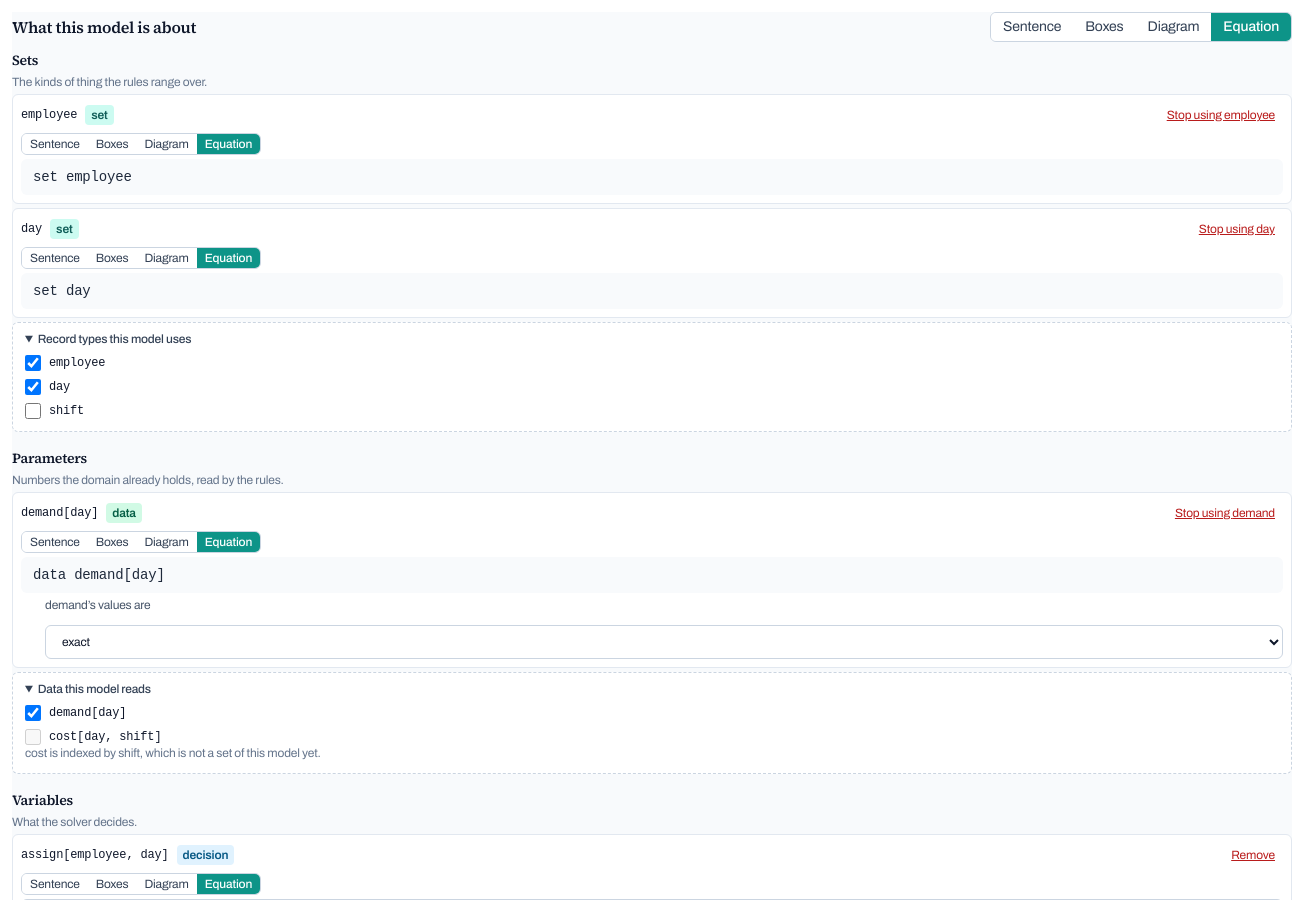
Test case: DeclarationsEditor › refuses to remove a set the rules still range over, naming them
Click the checkbox labelled "day" at (33, 387), box [25,379,41,395]
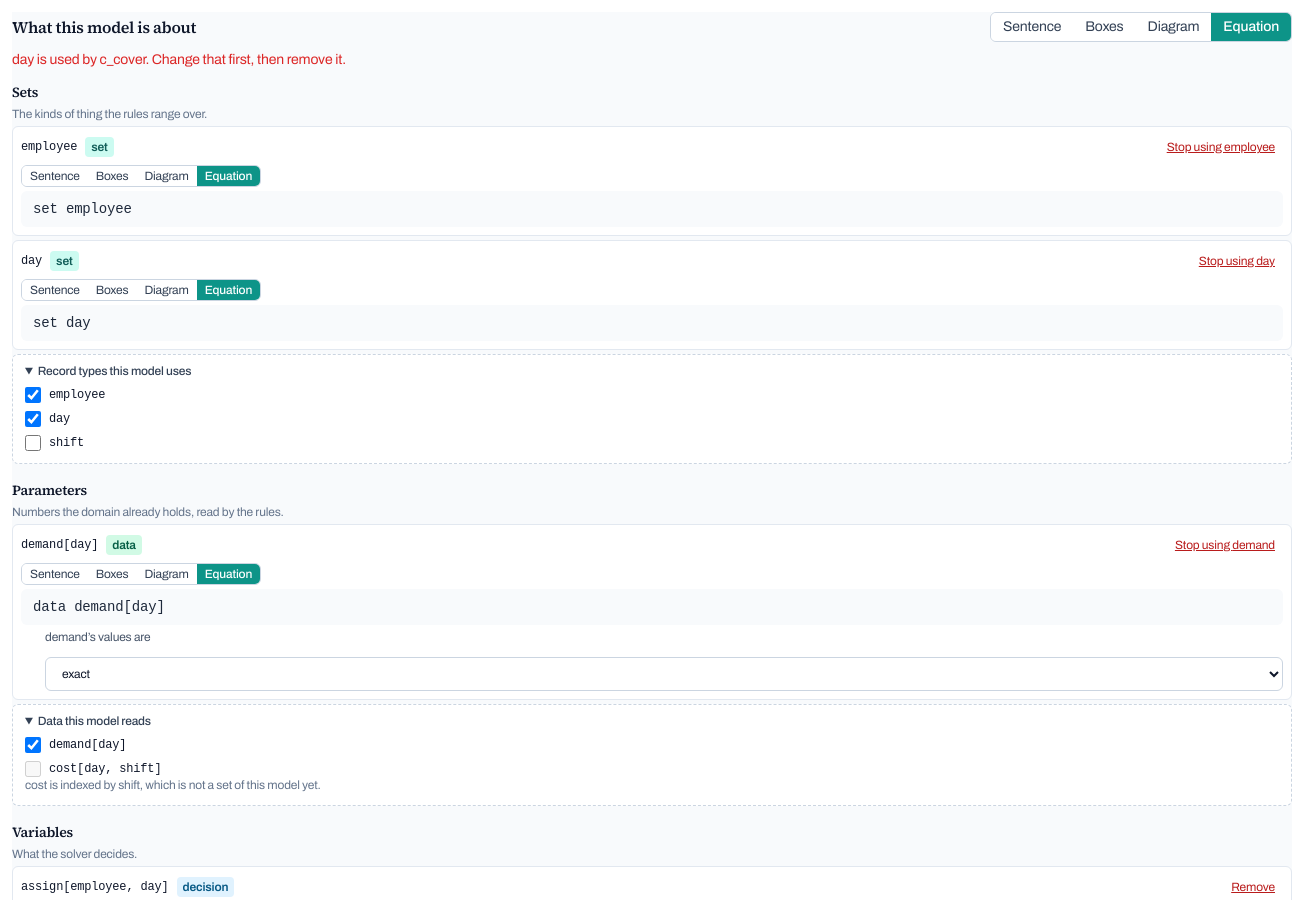
Now the message shows "day is used by c_cover", box [12,52,346,67]
